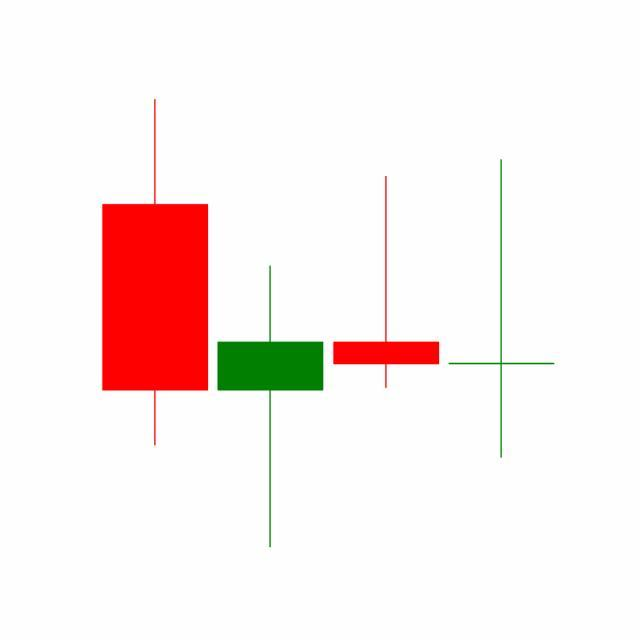Spinning Top: (329, 174, 445, 392)
